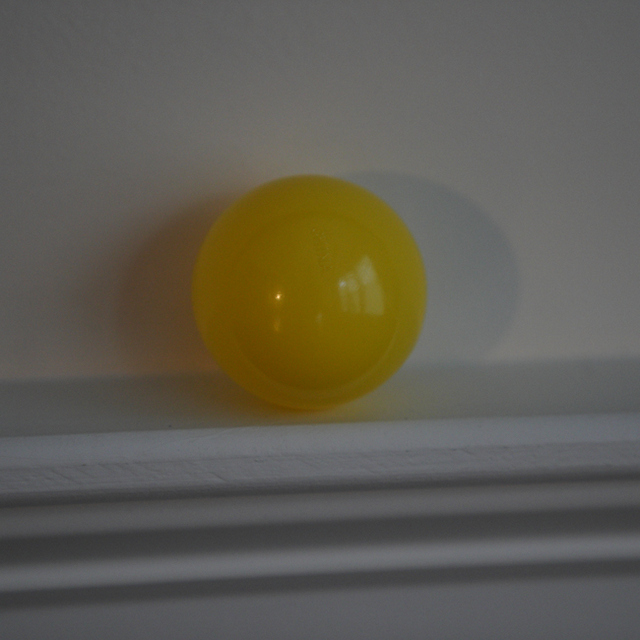Ball: (184, 172, 421, 415)
